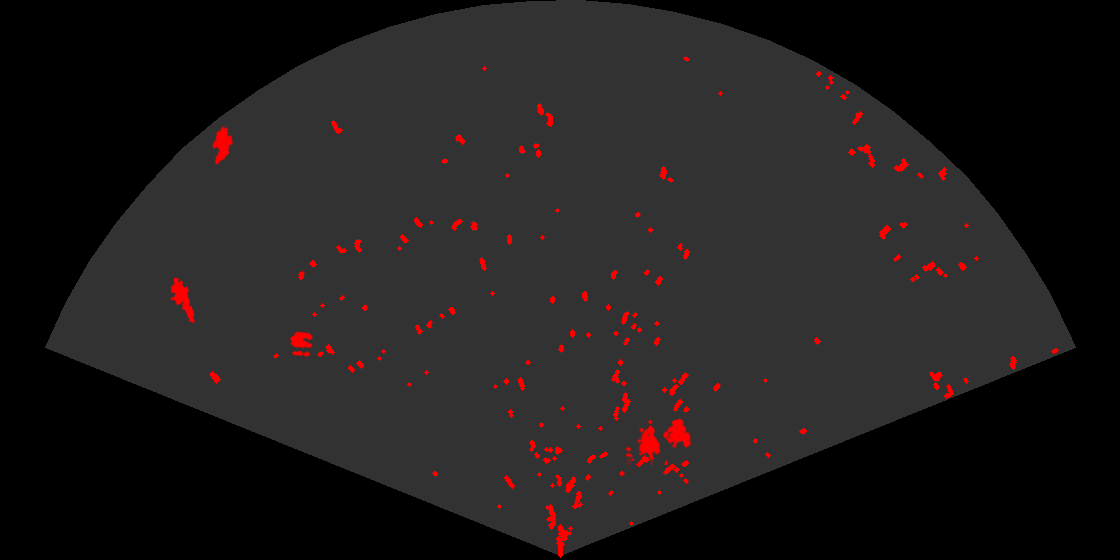AUV: (211, 125, 235, 167)
ball: (289, 330, 315, 358)
cage: (626, 416, 693, 465)
frogman: (169, 278, 197, 323)
